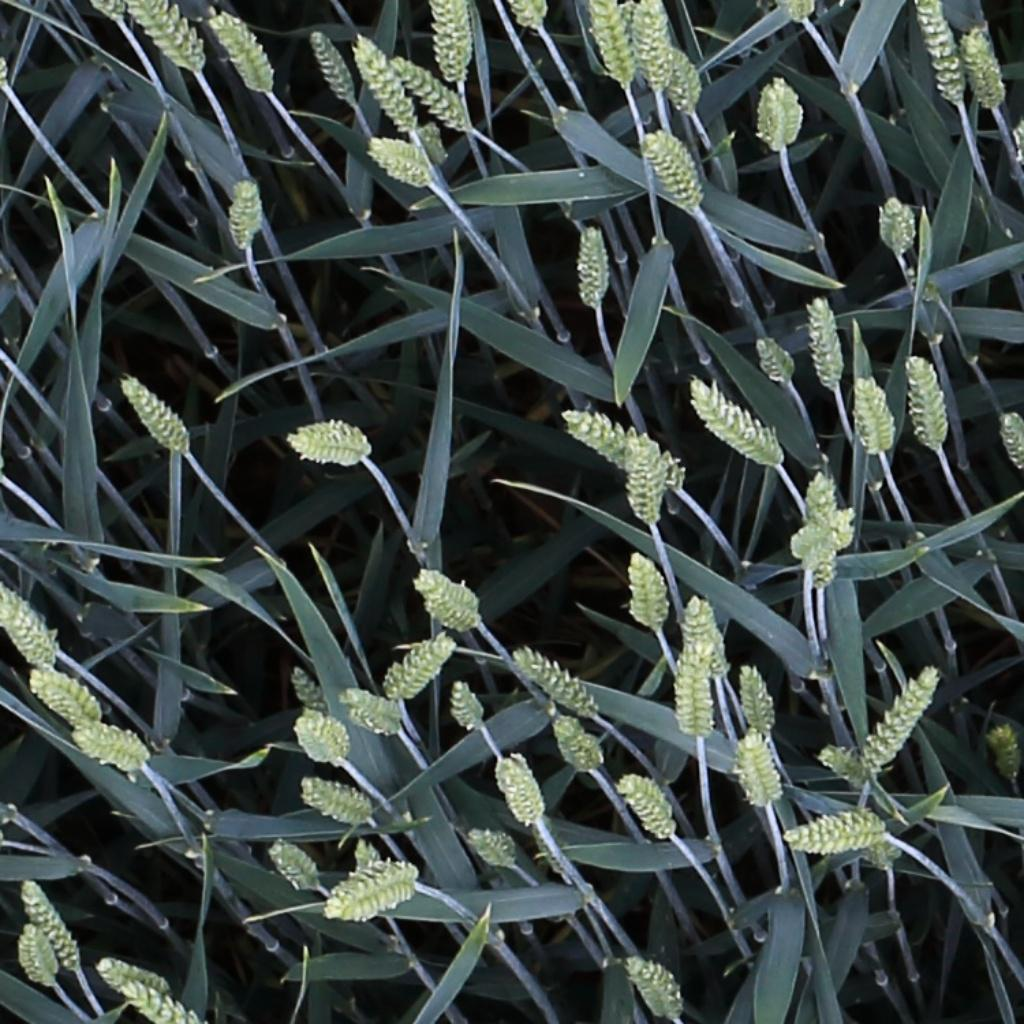0-0: (567, 406, 690, 494), (858, 663, 946, 776), (0, 562, 71, 680), (692, 379, 785, 468), (349, 32, 421, 137), (17, 873, 87, 980), (785, 804, 910, 856), (321, 859, 421, 923), (118, 372, 193, 456), (391, 54, 472, 131), (514, 647, 600, 719), (210, 8, 275, 96), (918, 0, 968, 110), (797, 467, 842, 585), (68, 716, 155, 777), (412, 565, 491, 631), (644, 126, 705, 211), (485, 748, 547, 831), (128, 1, 199, 72), (336, 684, 426, 740), (304, 23, 361, 109), (286, 414, 381, 465), (669, 632, 711, 745), (383, 636, 456, 699), (290, 767, 375, 821), (907, 350, 950, 453), (30, 670, 102, 727), (961, 25, 1006, 116), (593, 0, 637, 92), (617, 776, 678, 841), (688, 593, 731, 684), (434, 1, 480, 86), (625, 954, 685, 1018), (628, 430, 667, 522), (811, 289, 846, 391), (129, 982, 213, 1024), (868, 186, 916, 259), (856, 371, 894, 461), (286, 660, 337, 727), (758, 74, 803, 149), (731, 724, 772, 806), (552, 714, 603, 779), (17, 917, 57, 996), (740, 659, 778, 742), (296, 709, 350, 767), (637, 0, 670, 94), (663, 42, 707, 111), (630, 546, 663, 637), (753, 330, 800, 389), (368, 140, 434, 181), (267, 842, 322, 888), (98, 961, 170, 996), (820, 746, 876, 791), (581, 218, 606, 315), (988, 720, 1022, 790), (450, 674, 487, 738), (336, 836, 395, 874), (995, 406, 1024, 477), (232, 173, 258, 252), (466, 830, 516, 871), (85, 0, 132, 38), (870, 843, 903, 882), (513, 1, 548, 35), (787, 0, 816, 31)
